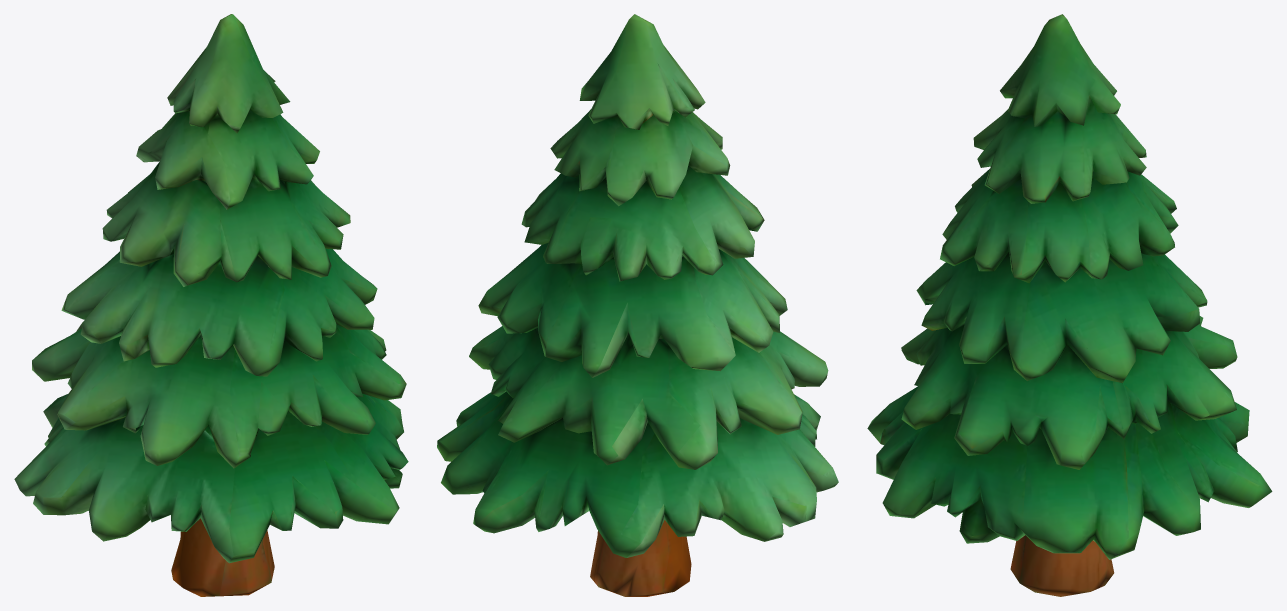
The model's file is pine.glb.
3 views of the same model, side by side, from view 1: azimuth 30°, elevation 25°; view 2: azimuth 150°, elevation 25°; view 3: azimuth 270°, elevation 25° (orthographic).
Parts seen in each view (by area): view 1: textured_mesh.obj; view 2: textured_mesh.obj; view 3: textured_mesh.obj.
Part boxes in pixels (x1=…): textured_mesh.obj: x1=14, y1=14, x2=408, y2=596; textured_mesh.obj: x1=437, y1=14, x2=838, y2=596; textured_mesh.obj: x1=867, y1=14, x2=1272, y2=596.
Size of what is drawn, in the model's own units: 3.33 by 5 by 3.24.
1 material, 1 textured.
